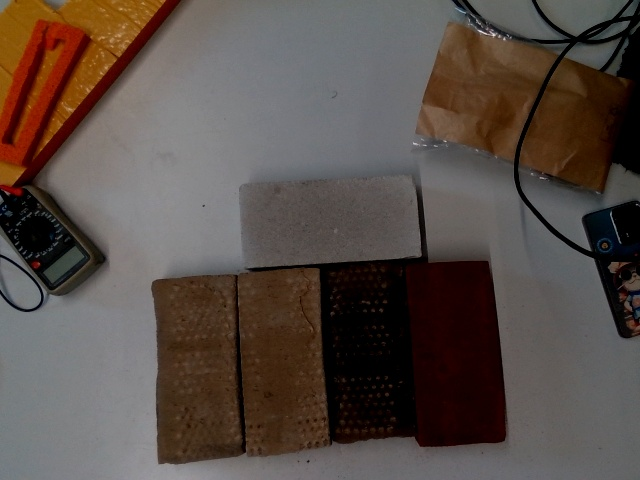brick: (237, 174, 422, 268), (323, 260, 414, 443), (152, 269, 239, 459), (238, 264, 325, 454), (410, 262, 500, 445)
